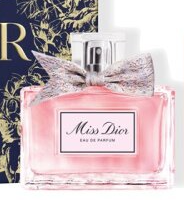dior_miss_dior: (18, 30, 176, 192)
